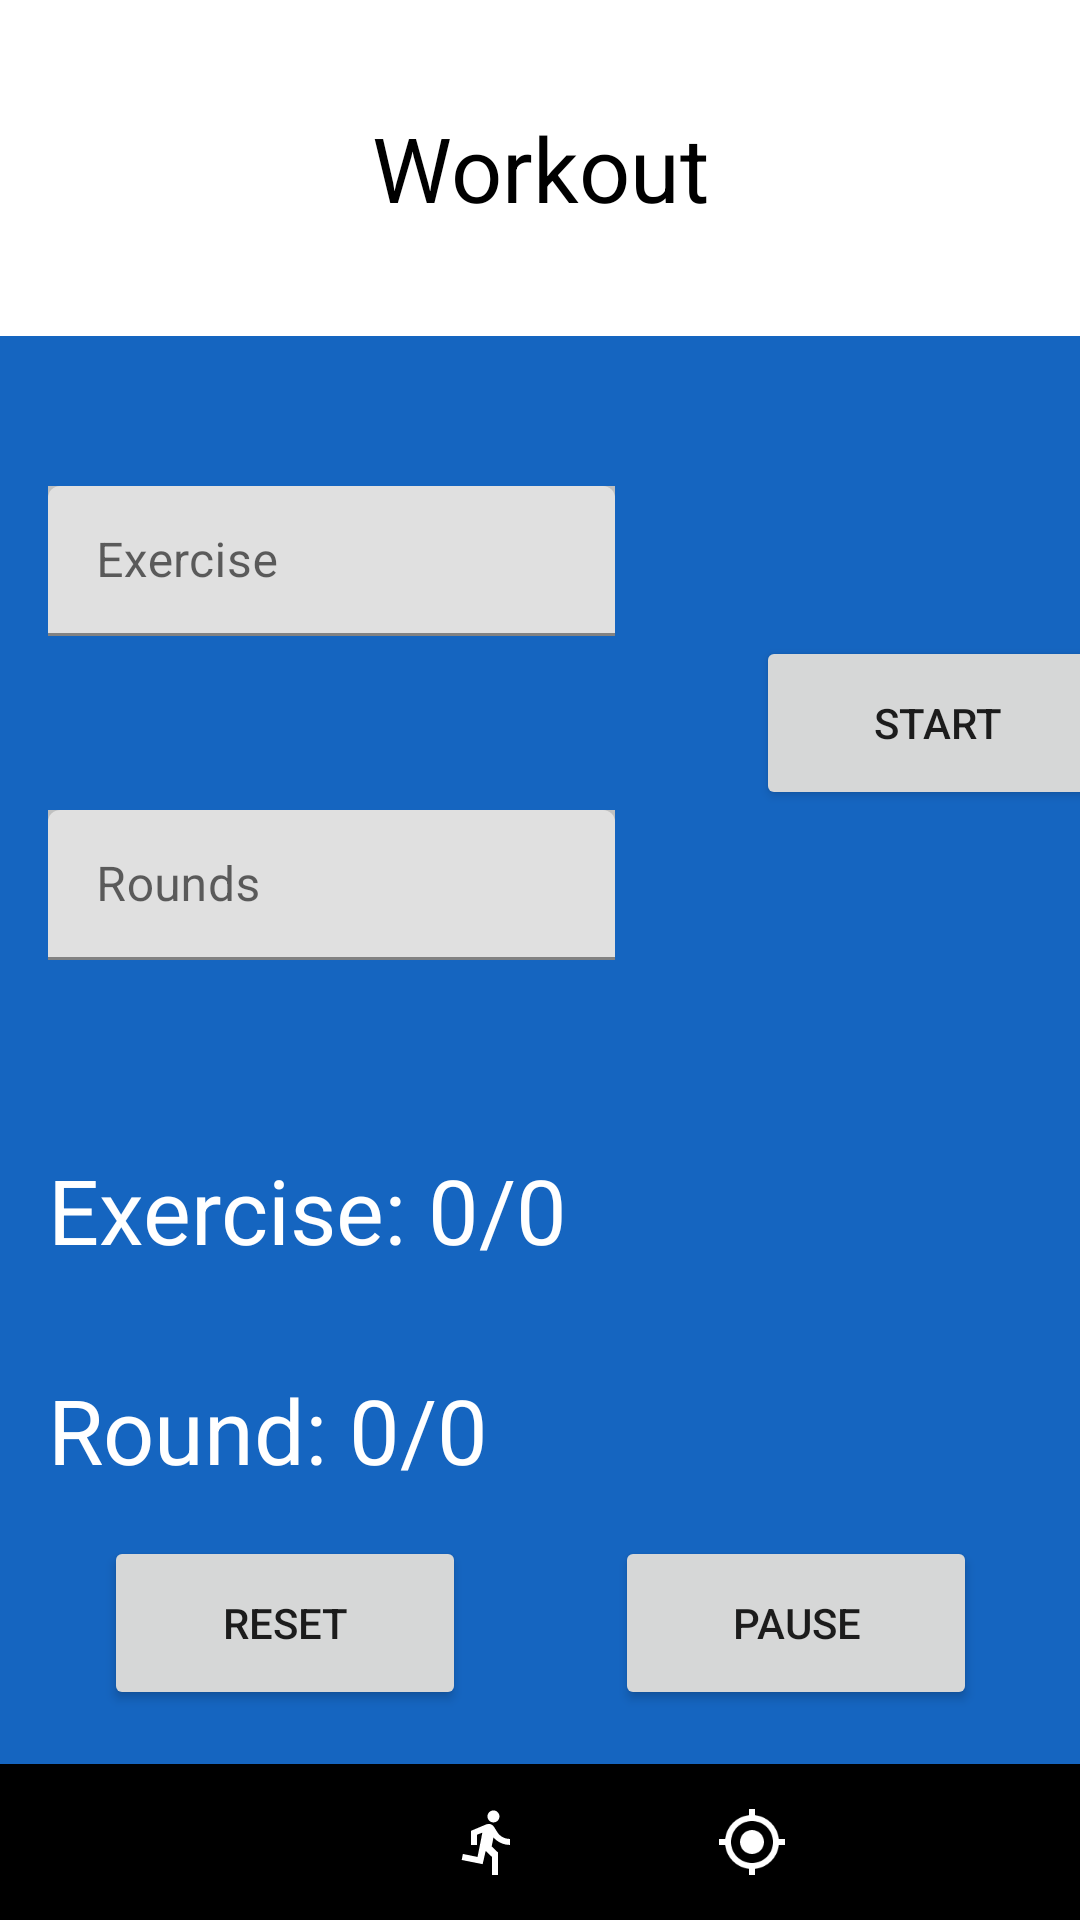

Icons on this 1080px×1920px Android screen, each with its box as (x1, y1, x2, y2):
to step counter: (461, 1810, 510, 1875)
